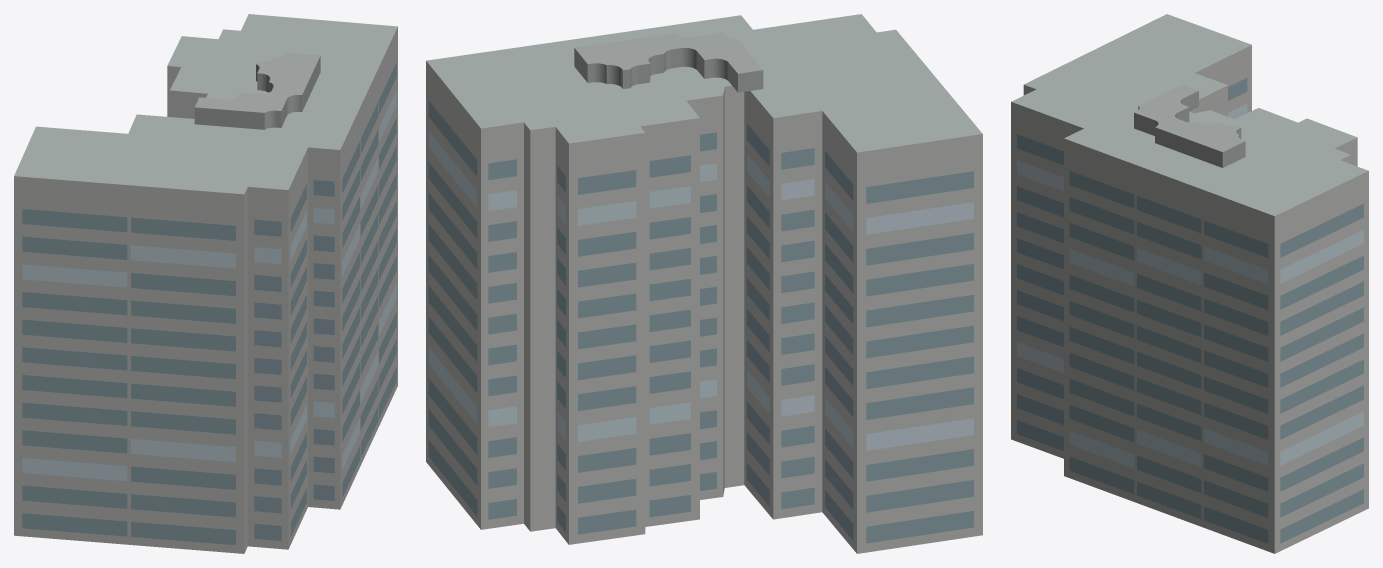
Rendered from fallback-godeok-arteon-306.glb.
The picture shows the model from 3 angles, left to right: view 1: azimuth 30°, elevation 25°; view 2: azimuth 150°, elevation 25°; view 3: azimuth 270°, elevation 25°; orthographic projection. The views are drawn at different scales.
Visible parts, largest first — view 1: fallback-godeok-arteon-306; view 2: fallback-godeok-arteon-306; view 3: fallback-godeok-arteon-306.
Part boxes in pixels (x1=…): fallback-godeok-arteon-306: x1=14, y1=14, x2=397, y2=553; fallback-godeok-arteon-306: x1=426, y1=14, x2=982, y2=553; fallback-godeok-arteon-306: x1=1011, y1=14, x2=1368, y2=553.
Bounding box in the file's own units: 49.07 × 40 × 36.67.
